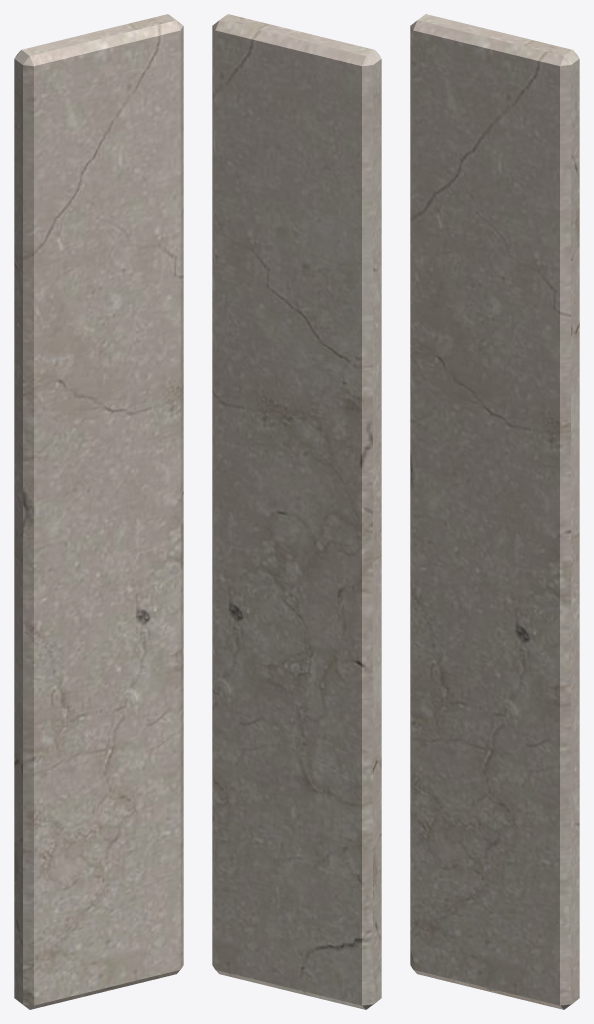
The model's file is pasted__marble_tile_166.fbx.
3 renders of one model, left to right at view 1: azimuth 30°, elevation 25°; view 2: azimuth 150°, elevation 25°; view 3: azimuth 330°, elevation 25°, orthographic.
Visible parts, largest first — view 1: pasted__marble_tile_166; view 2: pasted__marble_tile_166; view 3: pasted__marble_tile_166.
Part boxes in pixels (box(x1,y1,x2,y2)): pasted__marble_tile_166: box(14, 14, 183, 1009); pasted__marble_tile_166: box(212, 14, 381, 1009); pasted__marble_tile_166: box(410, 14, 579, 1009).
Bounding box in the file's own units: 37.27 × 6.65 × 211.
